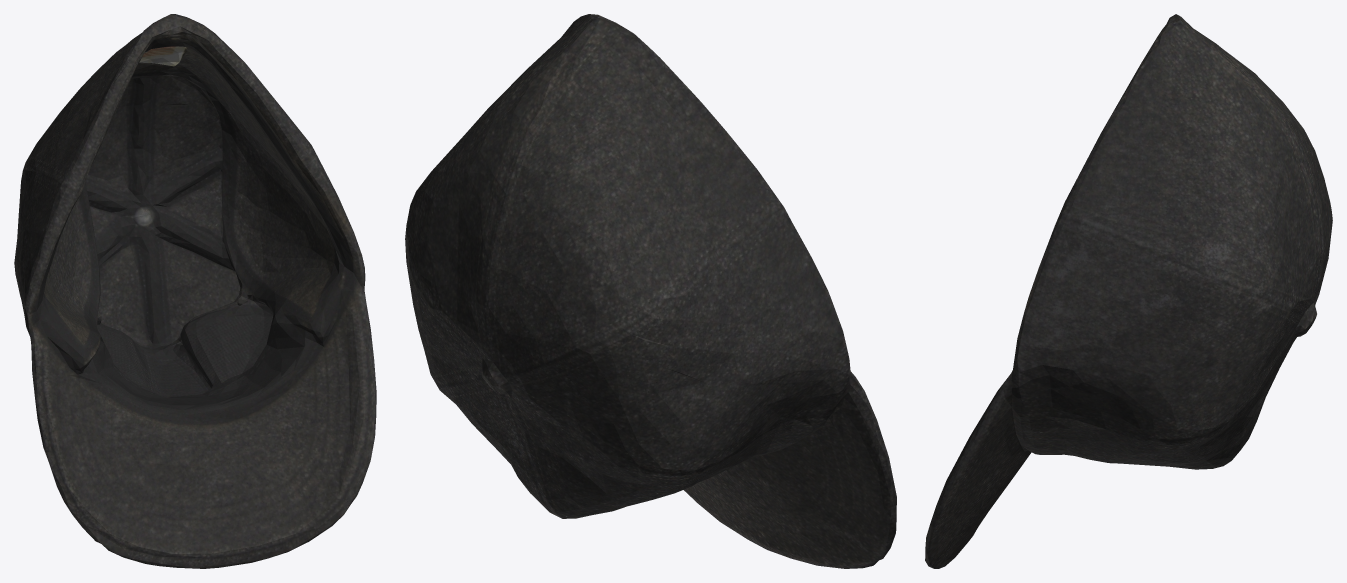
The model's file is export-small.obj.
The picture shows the model from 3 angles, left to right: view 1: azimuth 30°, elevation 25°; view 2: azimuth 150°, elevation 25°; view 3: azimuth 270°, elevation 25°; orthographic projection. The views are drawn at different scales.
Size of the model in its own units: 197 by 284 by 191.
1 material, 1 textured.
